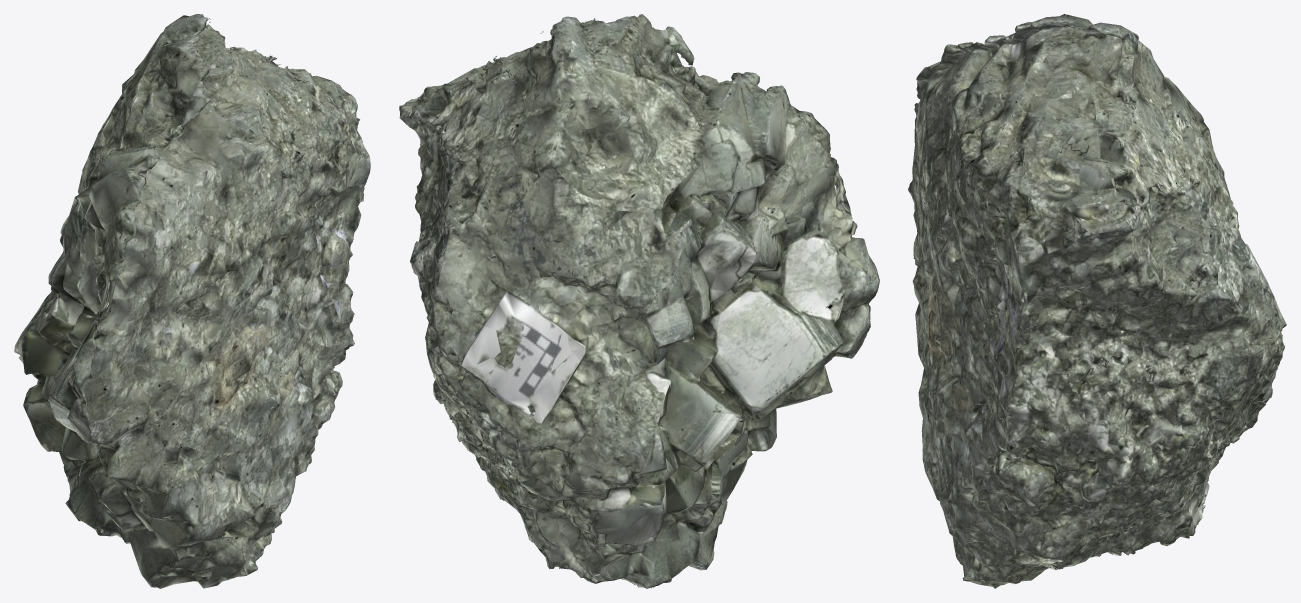
The model's file is pyrite.glb.
3 renders of one model, left to right at view 1: azimuth 30°, elevation 25°; view 2: azimuth 150°, elevation 25°; view 3: azimuth 270°, elevation 25°, orthographic. The views are drawn at different scales.
Visible parts, largest first — view 1: pyrite; view 2: pyrite; view 3: pyrite.
Part boxes in pixels (x1,y1,x2,y2): pyrite: [14, 14, 370, 588]; pyrite: [399, 14, 879, 588]; pyrite: [908, 14, 1286, 588].
Size of the model in its own units: 1.42 by 2 by 1.18.
Materials: 1 (1 with a texture image).
